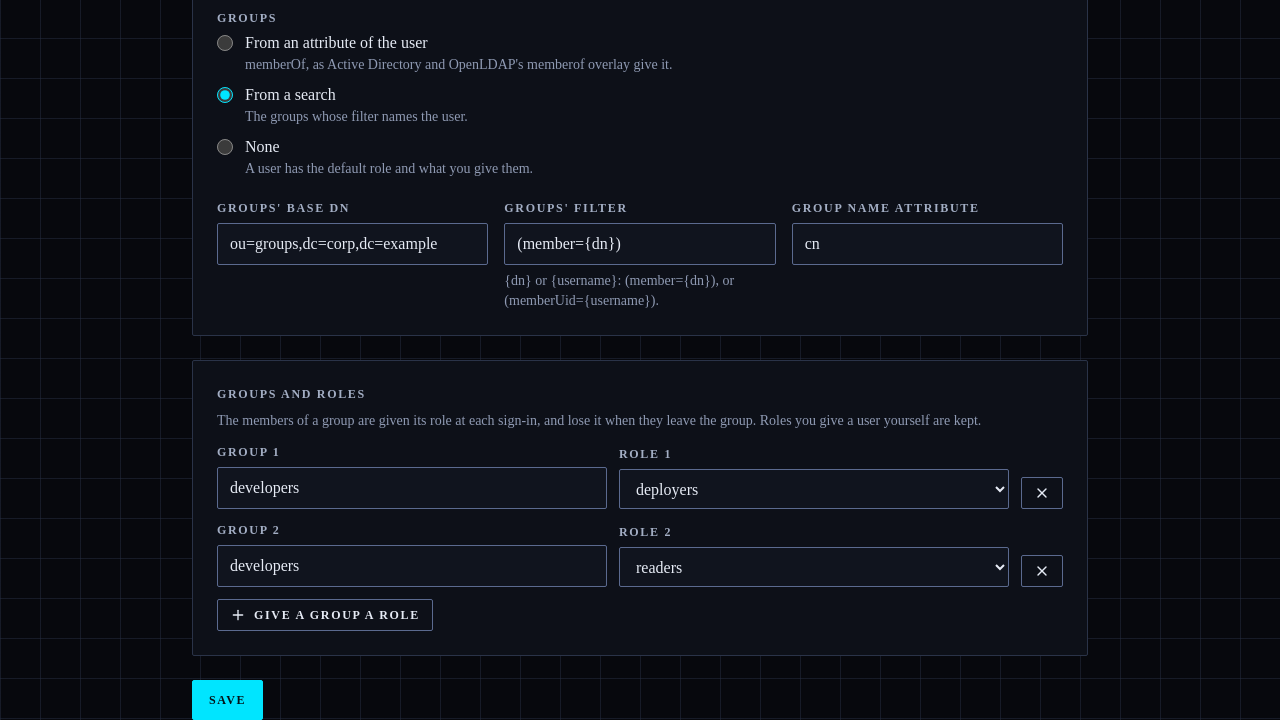
an LDAP source (spec 7) › opens with what it has, and keeps its bind password when saved
(page scrolled)
Check: the field labelled "Groups' base DN" holds "ou=groups,dc=corp,dc=example", box x1=217 y1=223 x2=488 y2=265
Click the button "Save": [228, 700] box x1=192 y1=680 x2=263 y2=719
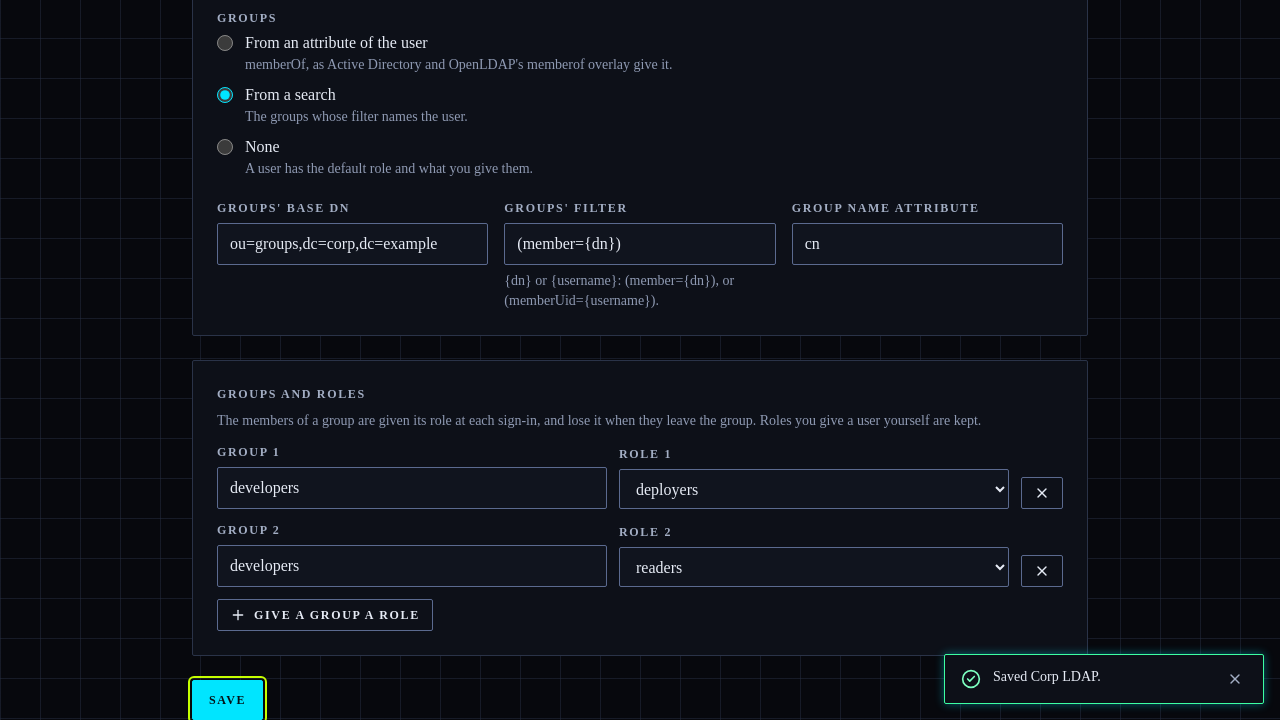
Check: the element named "Notifications" reads "Saved Corp LDAP.", box x1=993 y1=669 x2=1101 y2=684
